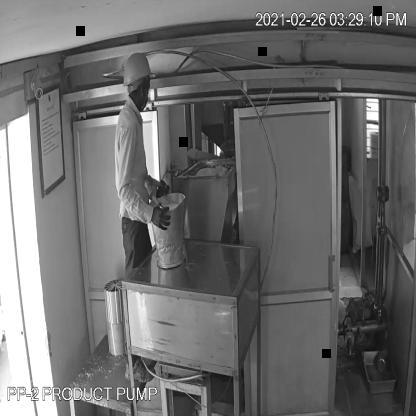helmet: (117, 52, 159, 89)
